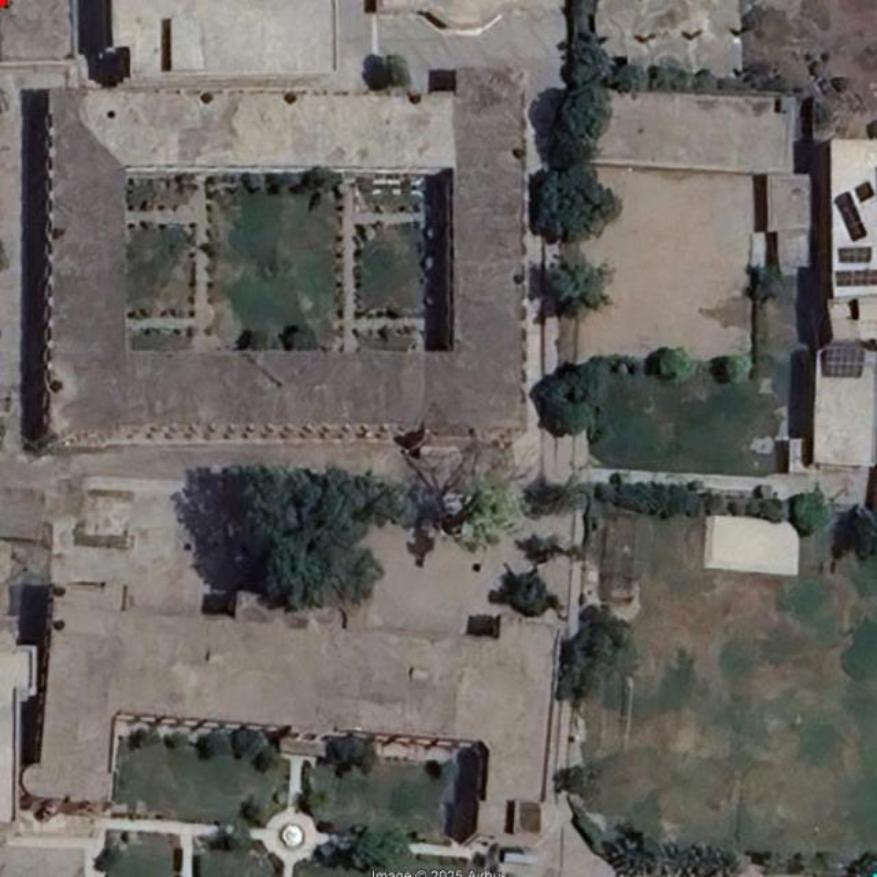Solarpanel: (836, 191, 865, 243), (829, 350, 865, 376), (837, 270, 876, 285), (839, 248, 873, 263)
